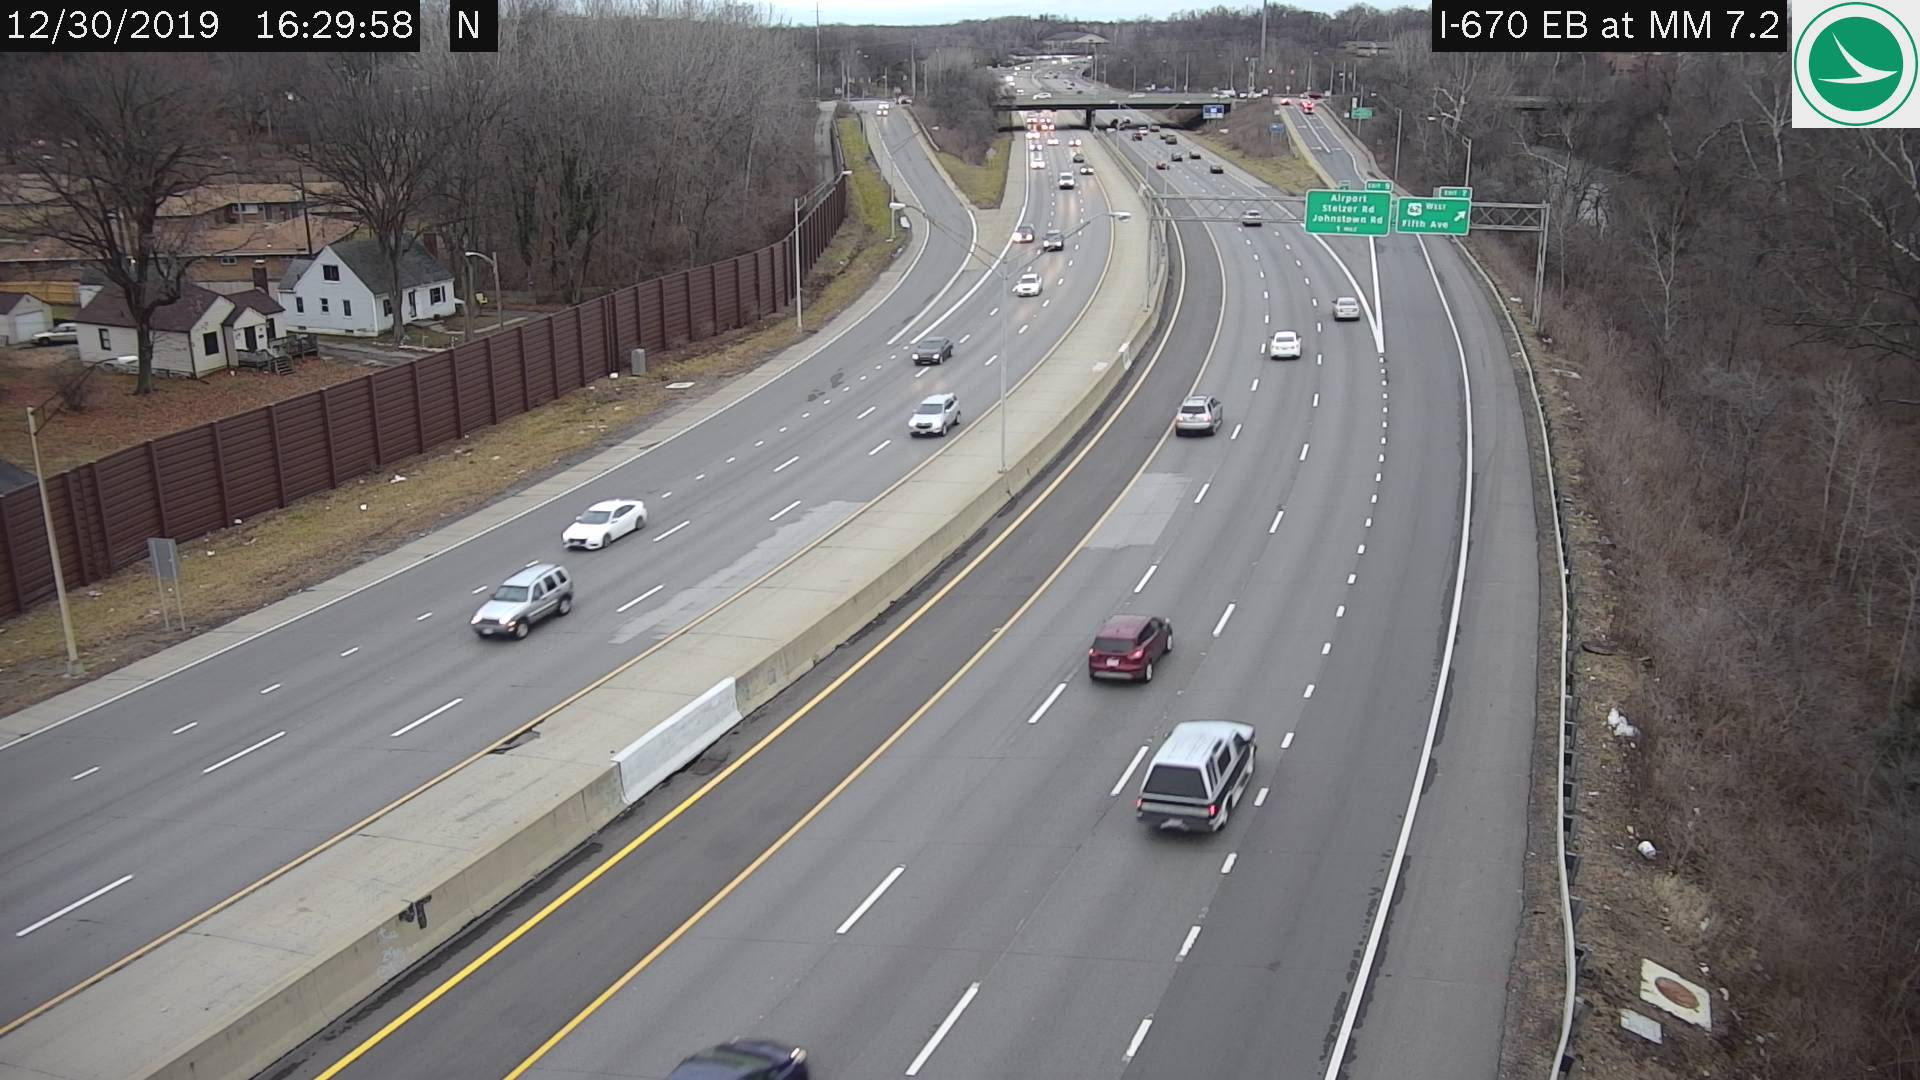car: (1138, 720, 1254, 832), (473, 564, 570, 640), (1091, 616, 1170, 680), (558, 500, 646, 549), (910, 392, 957, 433), (1174, 396, 1218, 436), (910, 336, 949, 364), (1270, 328, 1302, 356), (1014, 272, 1042, 295), (1335, 295, 1358, 316), (1043, 229, 1062, 251), (1241, 210, 1261, 225), (1015, 225, 1033, 243), (1056, 170, 1073, 187)
